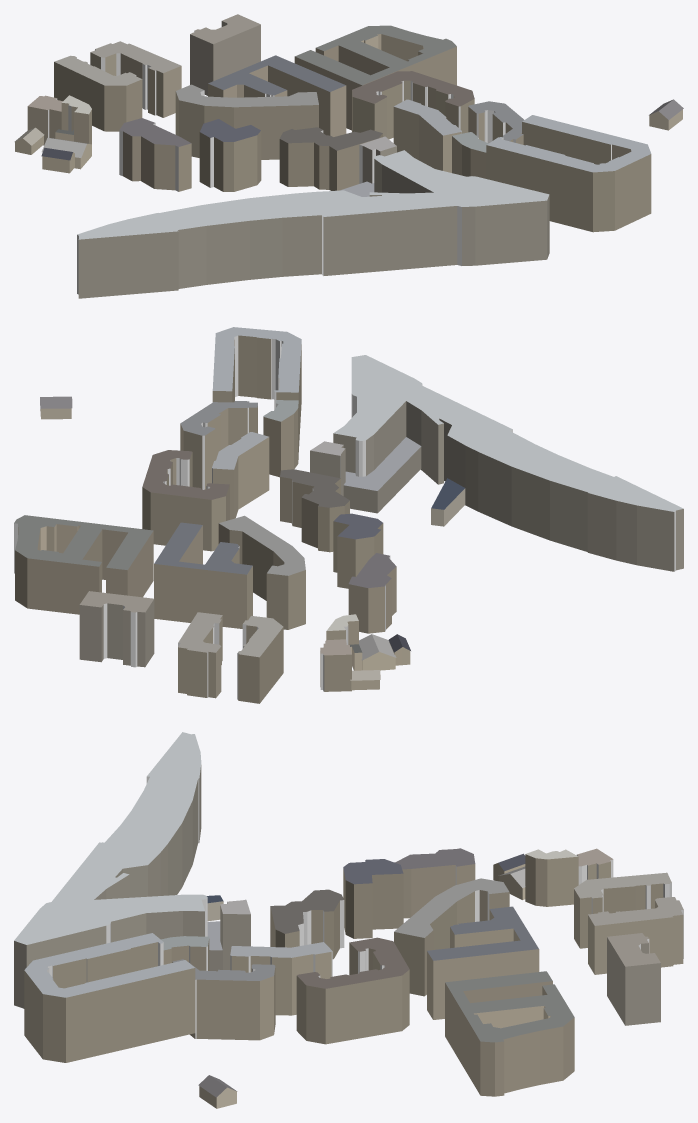
3 views of the same model, one above another, from view 1: azimuth 30°, elevation 25°; view 2: azimuth 150°, elevation 25°; view 3: azimuth 270°, elevation 25° (orthographic). The views are drawn at different scales.
Parts seen in each view (by area): view 1: tuile; view 2: tuile; view 3: tuile.
Boxes of the visible parts, x1=… form: tuile: x1=14, y1=14, x2=683, y2=298; tuile: x1=14, y1=327, x2=683, y2=703; tuile: x1=14, y1=732, x2=683, y2=1108.
Bounding box in the file's own units: 320 × 44.46 × 274.
